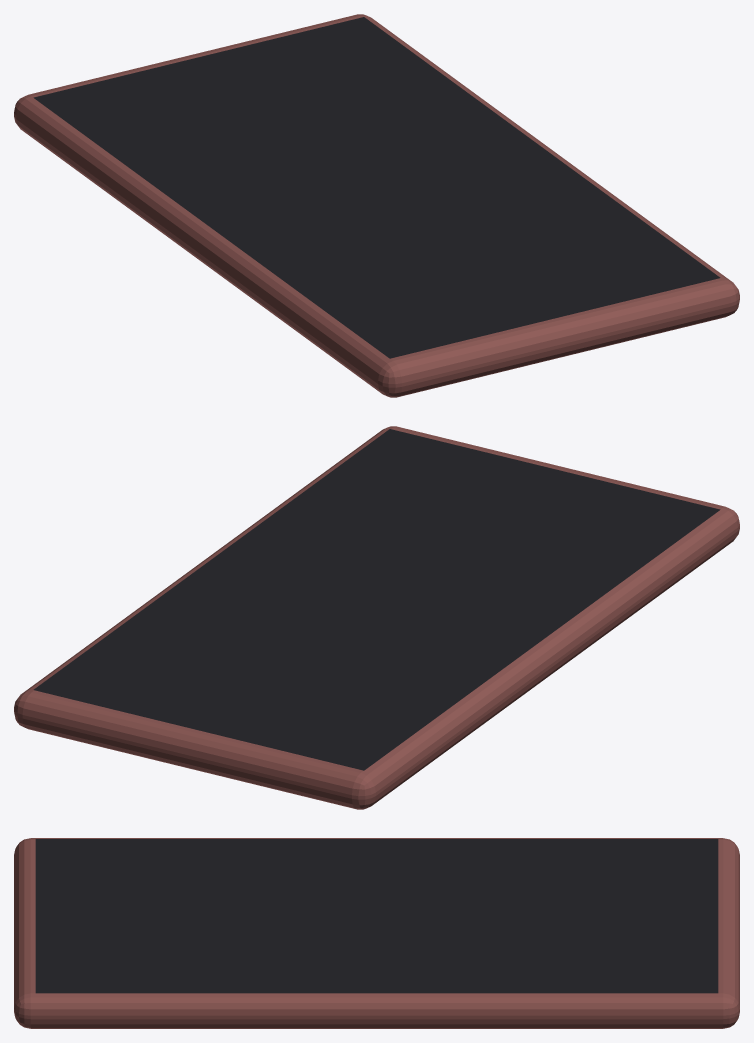
The model's file is Phone_562.glb.
3 renders of one model, top to bottom at view 1: azimuth 30°, elevation 25°; view 2: azimuth 150°, elevation 25°; view 3: azimuth 270°, elevation 25°, orthographic. The views are drawn at different scales.
Parts seen in each view (by area): view 1: Phone_Screen, Phone_Body; view 2: Phone_Screen, Phone_Body; view 3: Phone_Screen, Phone_Body.
Part boxes in pixels (bbox=[...]): Phone_Screen: bbox=[33, 17, 720, 358]; Phone_Body: bbox=[14, 14, 739, 397]; Phone_Screen: bbox=[33, 429, 720, 770]; Phone_Body: bbox=[14, 426, 739, 809]; Phone_Screen: bbox=[35, 839, 718, 993]; Phone_Body: bbox=[14, 838, 739, 1028].
Bounding box in the file's own units: 0.0798 × 0.0076 × 0.1458.
